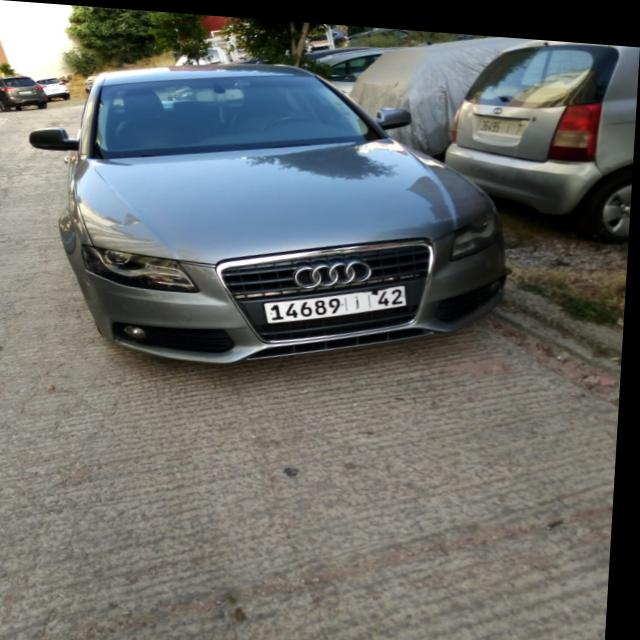License-Plate: (267, 279, 411, 319)
